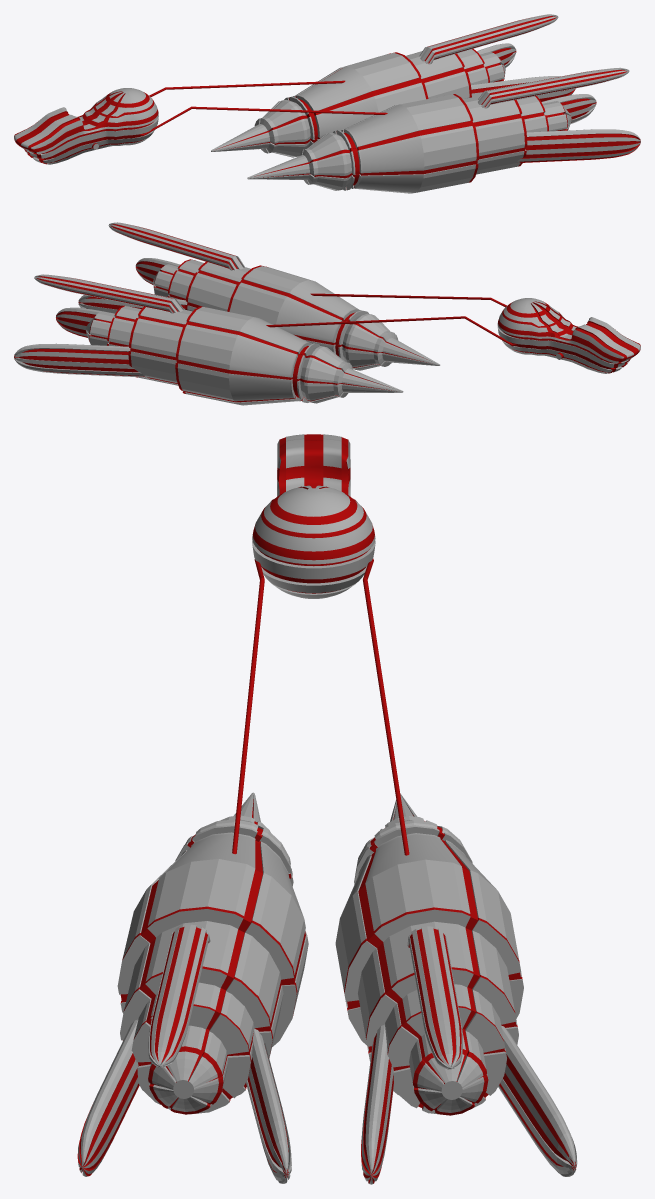
File: Podracer.fbx
The picture shows the model from 3 angles, top to bottom: view 1: azimuth 30°, elevation 25°; view 2: azimuth 150°, elevation 25°; view 3: azimuth 270°, elevation 25°; orthographic projection. The views are drawn at different scales.
Parts seen in each view (by area): view 1: polySurface11; view 2: polySurface11; view 3: polySurface11.
Part boxes in pixels (x1,y1,x2,y2): polySurface11: (14, 14, 640, 193); polySurface11: (14, 222, 640, 405); polySurface11: (77, 434, 577, 1184).
Bounding box in the file's own units: 6.84 × 1.64 × 2.6.
